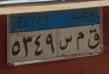3: (22, 34, 34, 57)
4: (33, 34, 44, 56)
5: (11, 39, 21, 56)
9: (45, 32, 55, 55)
meem: (75, 29, 85, 51)
qaaf: (87, 27, 100, 51)
seen: (58, 34, 73, 51)
